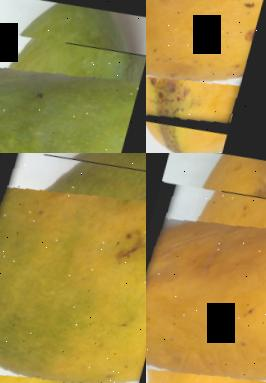PartiallyRipe: (0, 153, 146, 383)
Ripe: (146, 173, 266, 383), (146, 0, 266, 142)
Unripe: (0, 21, 146, 153)
